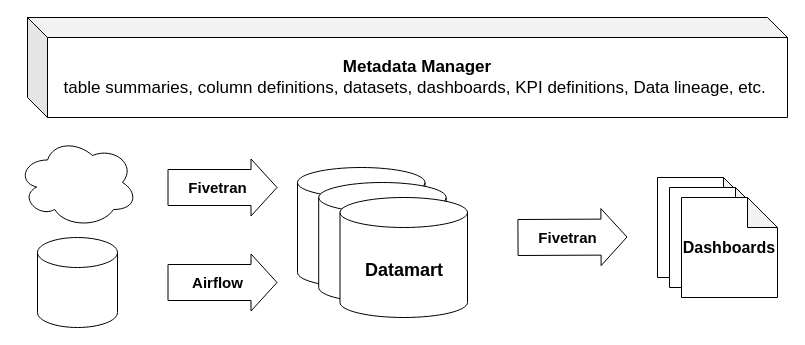
Some shapes in this 805 by 345 pixel diagram are drawn without their labels. Here are the shapes that lost their labels. From the top down, the box of each, then its label:
(16, 136, 138, 228): 3rd Party
(36, 236, 118, 328): 1st Party
